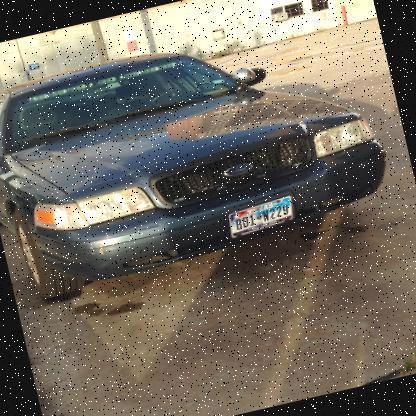License-Plate: (224, 193, 301, 241)
